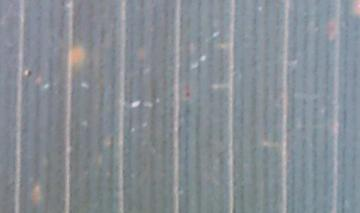tarspot: (25, 70, 32, 77), (185, 90, 191, 98)
